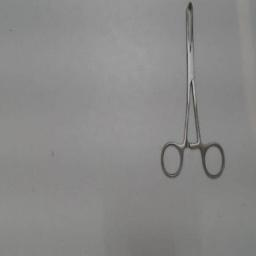Allis Tissue Forceps: (158, 0, 230, 182)
